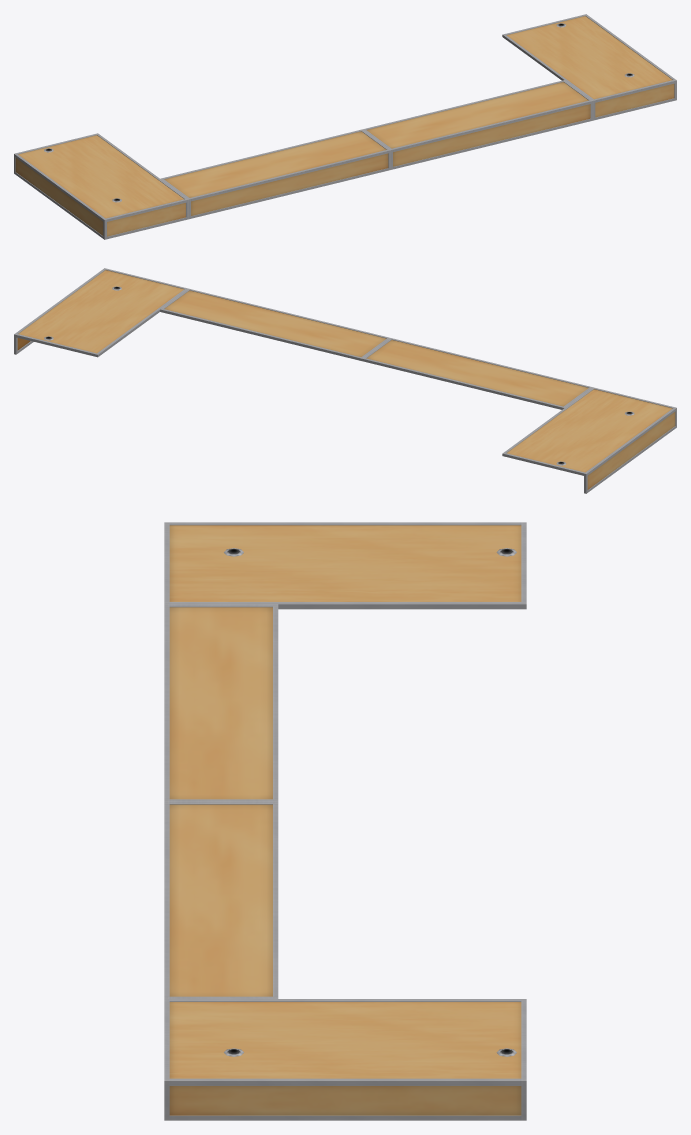
Rendered from jsf_4P_s04_c05_t03_DX.fbx.
3 views of the same model, one above another, from view 1: azimuth 30°, elevation 25°; view 2: azimuth 150°, elevation 25°; view 3: azimuth 270°, elevation 25° (orthographic). The views are drawn at different scales.
Visible parts, largest first — view 1: jsf_4P_s04_c05_t03_DX; view 2: jsf_4P_s04_c05_t03_DX; view 3: jsf_4P_s04_c05_t03_DX.
Boxes of the visible parts, bbox=[...] form: jsf_4P_s04_c05_t03_DX: bbox=[14, 14, 676, 239]; jsf_4P_s04_c05_t03_DX: bbox=[14, 268, 676, 493]; jsf_4P_s04_c05_t03_DX: bbox=[164, 522, 526, 1120].
Size of the model in its own units: 378 by 12.99 by 104.
